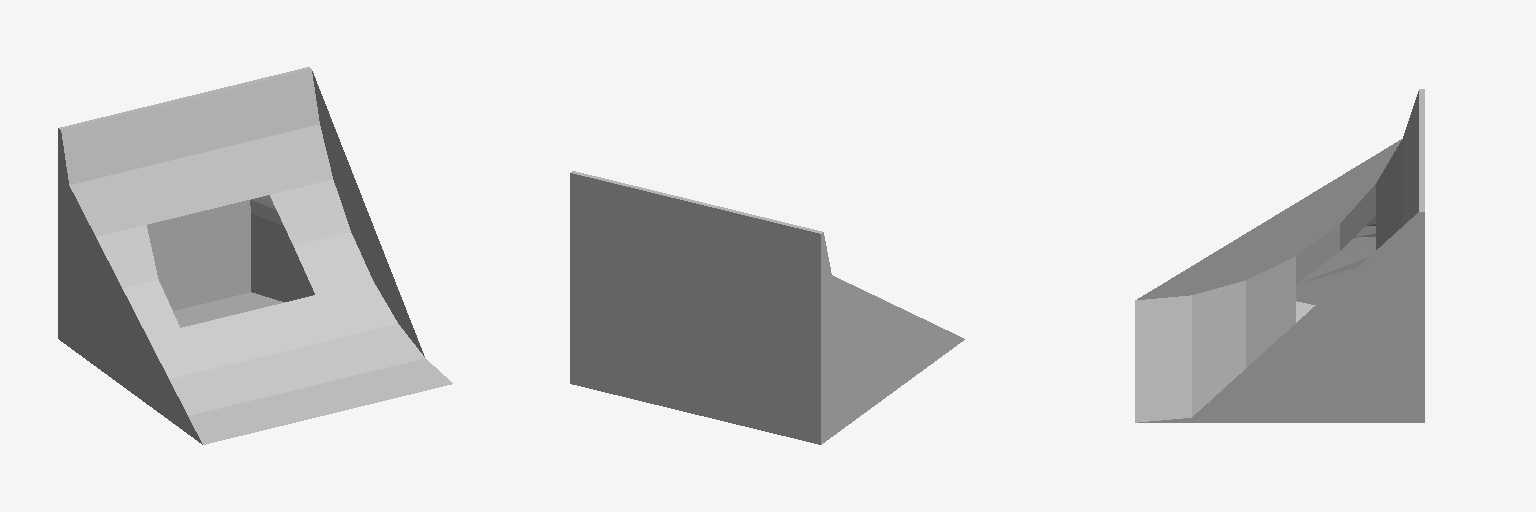
File: quarter-pipe-with-vomitorium.obj
3 renders of one model, left to right at view 1: azimuth 30°, elevation 25°; view 2: azimuth 150°, elevation 25°; view 3: azimuth 270°, elevation 25°, orthographic.
Visible parts, largest first — view 1: quarter-pipe; view 2: quarter-pipe; view 3: quarter-pipe.
Part boxes in pixels (bbox=[...]): quarter-pipe: bbox=[58, 67, 452, 444]; quarter-pipe: bbox=[570, 171, 964, 444]; quarter-pipe: bbox=[1135, 89, 1424, 422].
Size of the model in its own units: 1 by 0.8049 by 1.